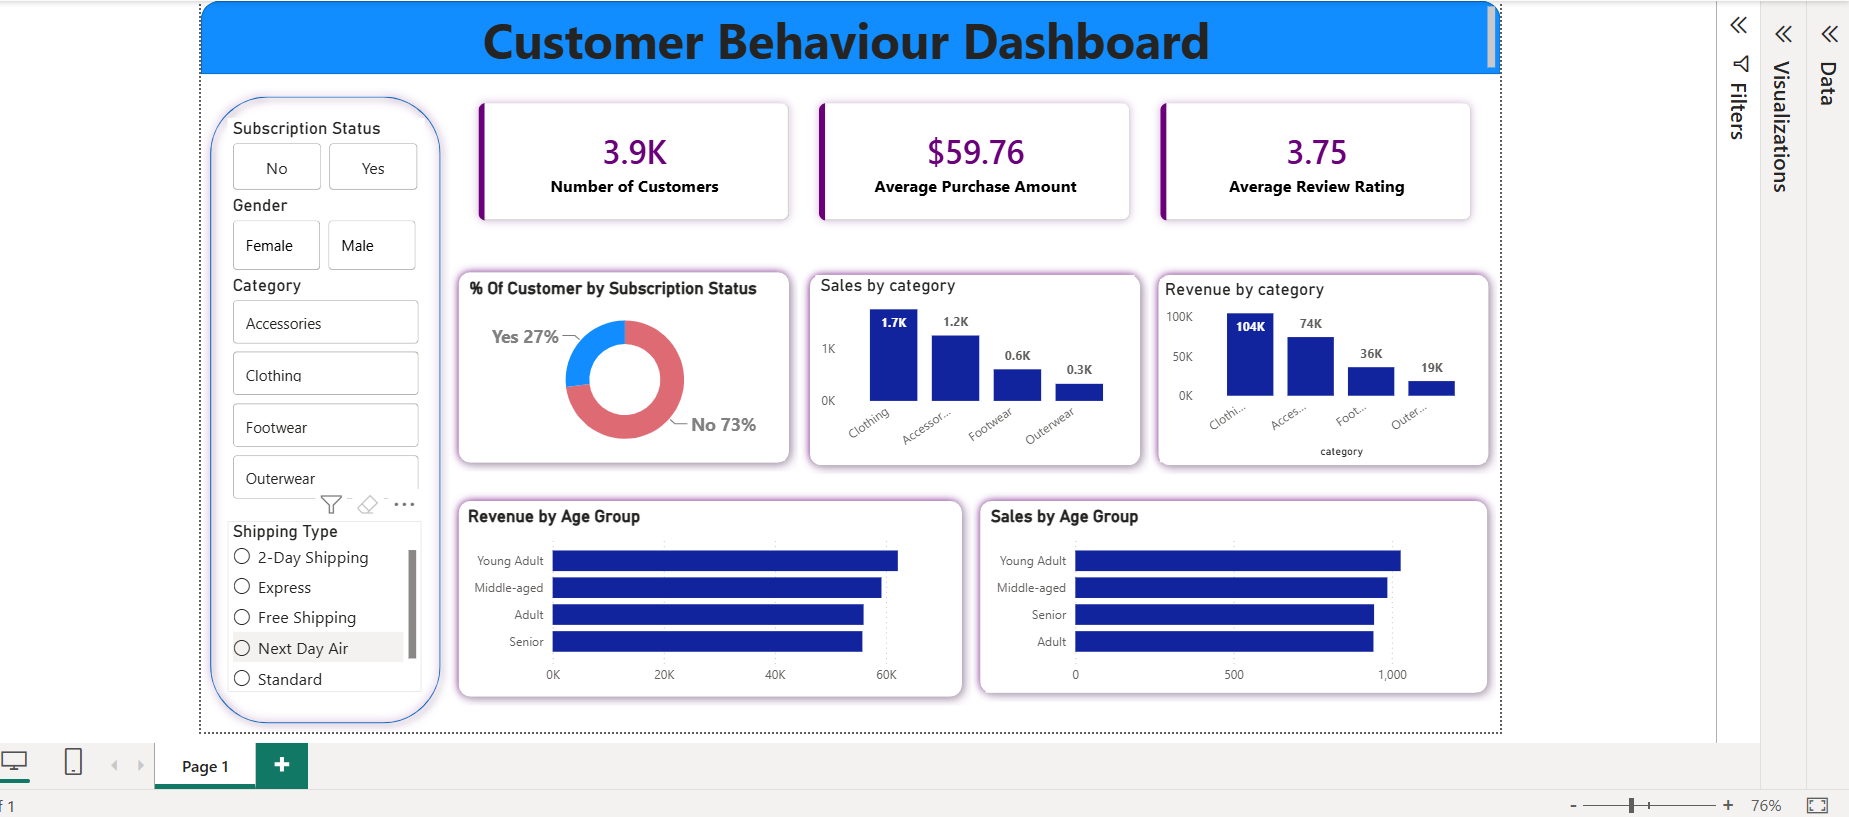

This screenshot's page, from the dashboard's own definition file:
{"tool":"powerbi","page":{"name":"Page 1","canvas":[1280,720],"ordinal":0},"visuals":[{"type":"cardVisual","fields":{"Data":["customer_sales_analysis customer_data.Number of Customers","customer_sales_analysis customer_data.Average Purchase Amount","customer_sales_analysis customer_data.Average Review Rating"]},"box":[244.9,72,1034.7,172.9],"z":0},{"type":"shape","box":[0,0,1279.6,72],"z":1000},{"type":"textbox","box":[0,0,1279.6,72],"z":2000},{"type":"shape","box":[244.9,258,343.2,205.6],"z":3000},{"type":"donutChart","title":"% Of Customer by Subscription Status","fields":{"Y":["CountNonNull(customer_sales_analysis customer_data.customer_id)"],"Category":["customer_sales_analysis customer_data.subscription_status"]},"box":[259.3,272.4,315.7,180.7],"z":4000},{"type":"shape","box":[0,85.1,244.9,635.2],"z":5000},{"type":"advancedSlicerVisual","fields":{"Values":["customer_sales_analysis customer_data.subscription_status"]},"box":[26.2,115.3,193.8,76],"z":6000},{"type":"advancedSlicerVisual","fields":{"Values":["customer_sales_analysis customer_data.gender"]},"box":[26.2,191.2,191.2,78.6],"z":7000},{"type":"advancedSlicerVisual","fields":{"Values":["customer_sales_analysis customer_data.category"]},"box":[26.2,269.8,193.8,227.9],"z":8000},{"type":"listSlicer","fields":{"Values":["customer_sales_analysis customer_data.shipping_type"]},"box":[26.2,512.1,191.2,169],"z":9000},{"type":"shape","box":[758.4,483.3,517.4,206.9],"z":10000},{"type":"shape","box":[244.9,483.3,513.4,210.9],"z":11000},{"type":"clusteredBarChart","title":"Revenue by Age Group","fields":{"Category":["customer_sales_analysis customer_data.age_group"],"Y":["Sum(customer_sales_analysis customer_data.purchase_amount)"]},"box":[258,497.7,485.9,183.4],"z":12000},{"type":"clusteredBarChart","title":"Sales by Age Group","fields":{"Category":["customer_sales_analysis customer_data.age_group"],"Y":["CountNonNull(customer_sales_analysis customer_data.customer_id)"]},"box":[772.8,497.7,482,183.4],"z":13000},{"type":"shape","box":[590.7,260.6,343.2,205.6],"z":14000},{"type":"clusteredColumnChart","title":"Sales by category","fields":{"Category":["customer_sales_analysis customer_data.category"],"Y":["CountNonNull(customer_sales_analysis customer_data.customer_id)"]},"box":[605.1,269.8,314.3,180.7],"z":15000},{"type":"shape","box":[933.9,260.6,343.2,205.6],"z":16000},{"type":"clusteredColumnChart","title":"Revenue by category","fields":{"Category":["customer_sales_analysis customer_data.category"],"Y":["Sum(customer_sales_analysis customer_data.purchase_amount)"]},"box":[944.3,273.7,320.9,180.7],"z":17000}]}

Visuals, with their boxes on the page's 1280x720 design canvas (x1, y1, x2, y2). These are canvas units, not pixel positions in the 1849x817 screenshot, which may show the page scaled, cropped or inside an application window:
cardVisual - customer_sales_analysis customer_data.Number of Customers x customer_sales_analysis customer_data.Average Purchase Amount: [245, 72, 1280, 245]
shape: [0, 0, 1280, 72]
textbox: [0, 0, 1280, 72]
shape: [245, 258, 588, 464]
"% Of Customer by Subscription Status" donutChart: [259, 272, 575, 453]
shape: [0, 85, 245, 720]
advancedSlicerVisual - customer_sales_analysis customer_data.subscription_status: [26, 115, 220, 191]
advancedSlicerVisual - customer_sales_analysis customer_data.gender: [26, 191, 217, 270]
advancedSlicerVisual - customer_sales_analysis customer_data.category: [26, 270, 220, 498]
listSlicer - customer_sales_analysis customer_data.shipping_type: [26, 512, 217, 681]
shape: [758, 483, 1276, 690]
shape: [245, 483, 758, 694]
"Revenue by Age Group" clusteredBarChart: [258, 498, 744, 681]
"Sales by Age Group" clusteredBarChart: [773, 498, 1255, 681]
shape: [591, 261, 934, 466]
"Sales by category" clusteredColumnChart: [605, 270, 919, 450]
shape: [934, 261, 1277, 466]
"Revenue by category" clusteredColumnChart: [944, 274, 1265, 454]
